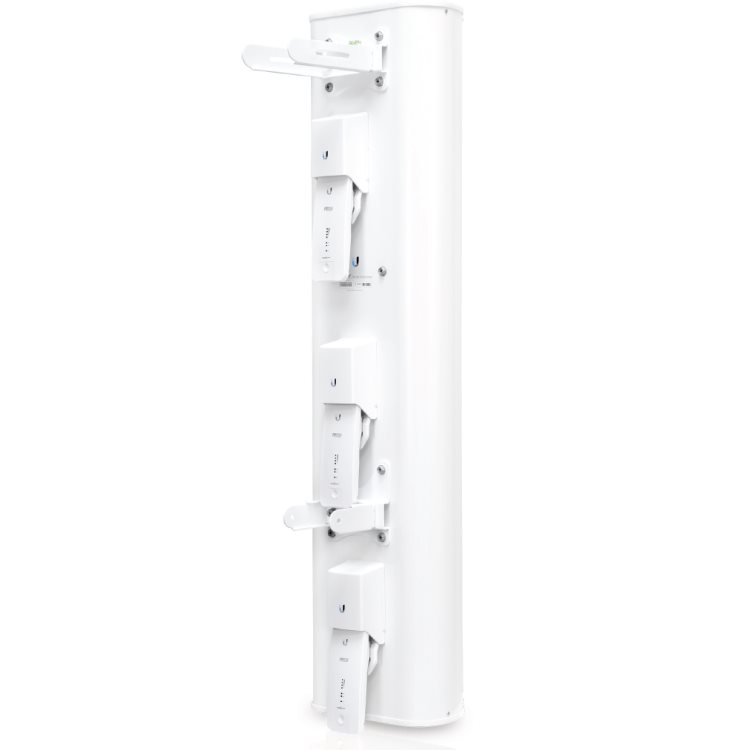sa: (223, 15, 519, 731)
